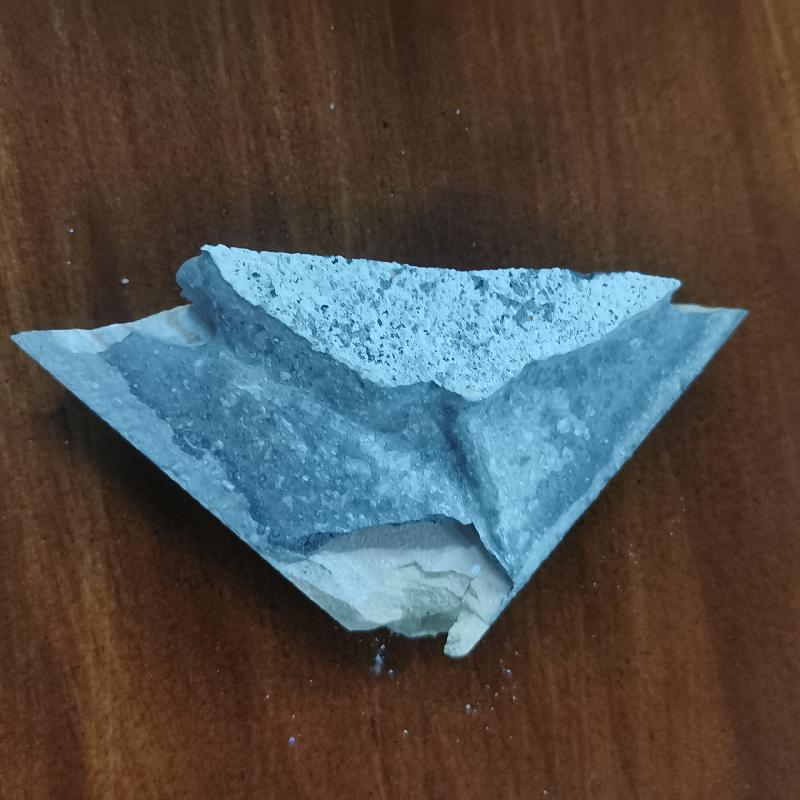tile: (8, 241, 745, 661)
